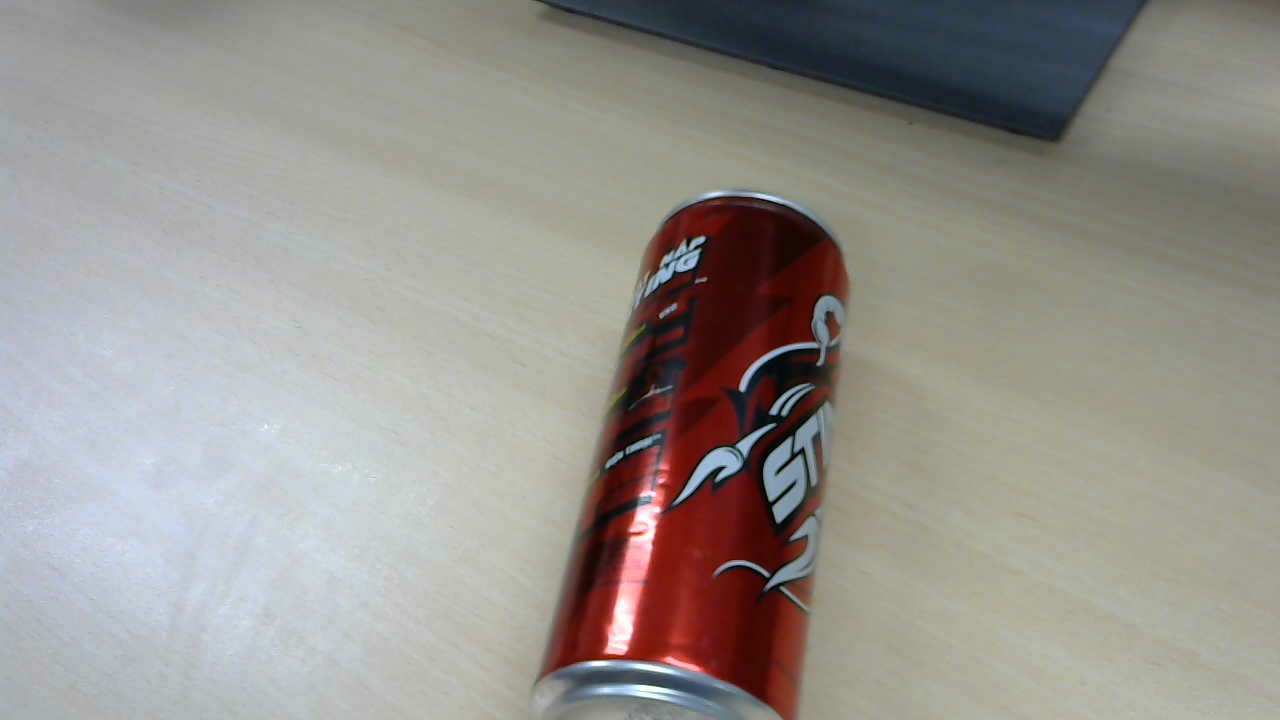Sting: (528, 197, 865, 697)
